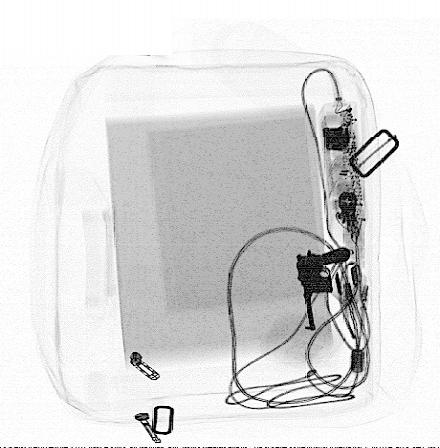Gun: (295, 247, 351, 331)
